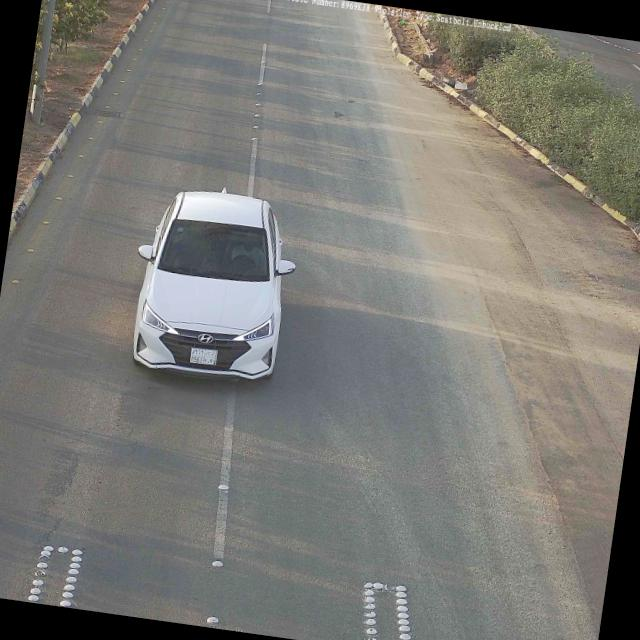person_without_seatbelt: (228, 233, 268, 270)
